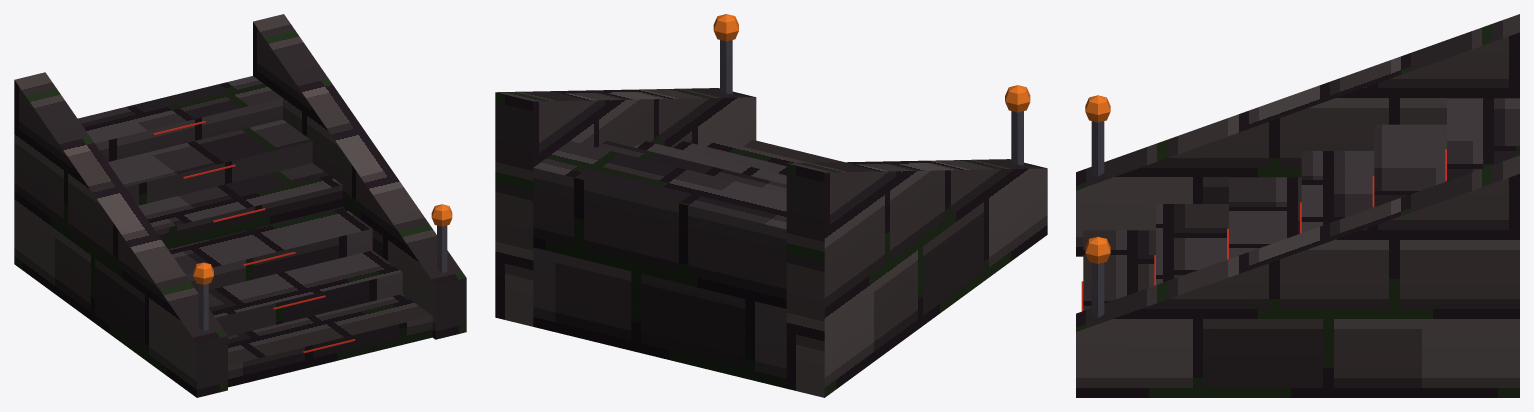
The model's file is basalt_stair.glb.
3 renders of one model, left to right at view 1: azimuth 30°, elevation 25°; view 2: azimuth 150°, elevation 25°; view 3: azimuth 270°, elevation 25°, orthographic. The views are drawn at different scales.
Parts seen in each view (by area): view 1: basalt_stair; view 2: basalt_stair; view 3: basalt_stair.
Part boxes in pixels (bbox=[...]): basalt_stair: bbox=[14, 14, 466, 397]; basalt_stair: bbox=[495, 14, 1047, 397]; basalt_stair: bbox=[1076, 14, 1519, 397].
Size of the model in its own units: 2.6 by 1.7 by 3.05.
Materials: 3 (1 with a texture image).
